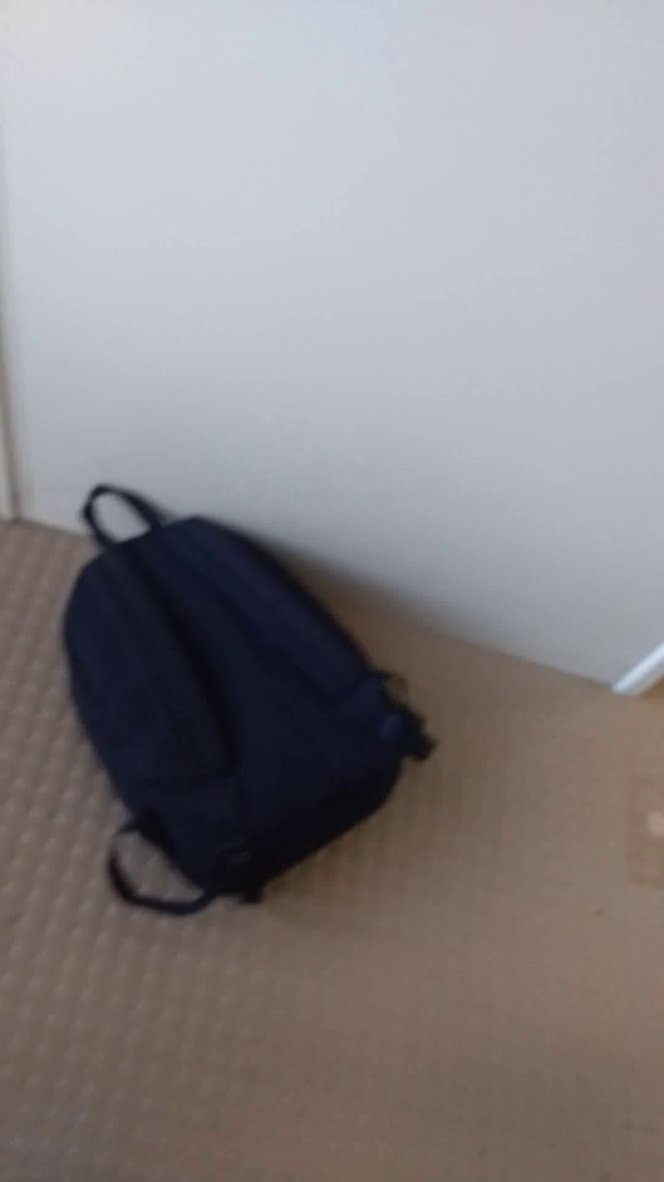bag: (52, 469, 459, 929)
